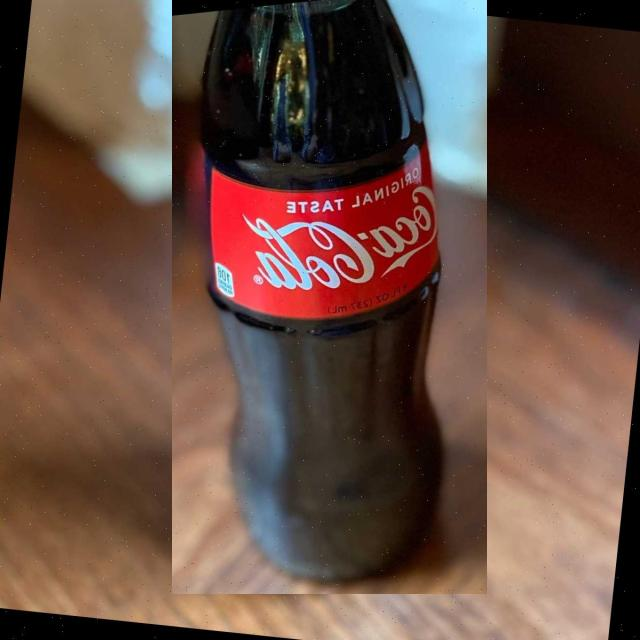coca-cola: (172, 0, 487, 594)
